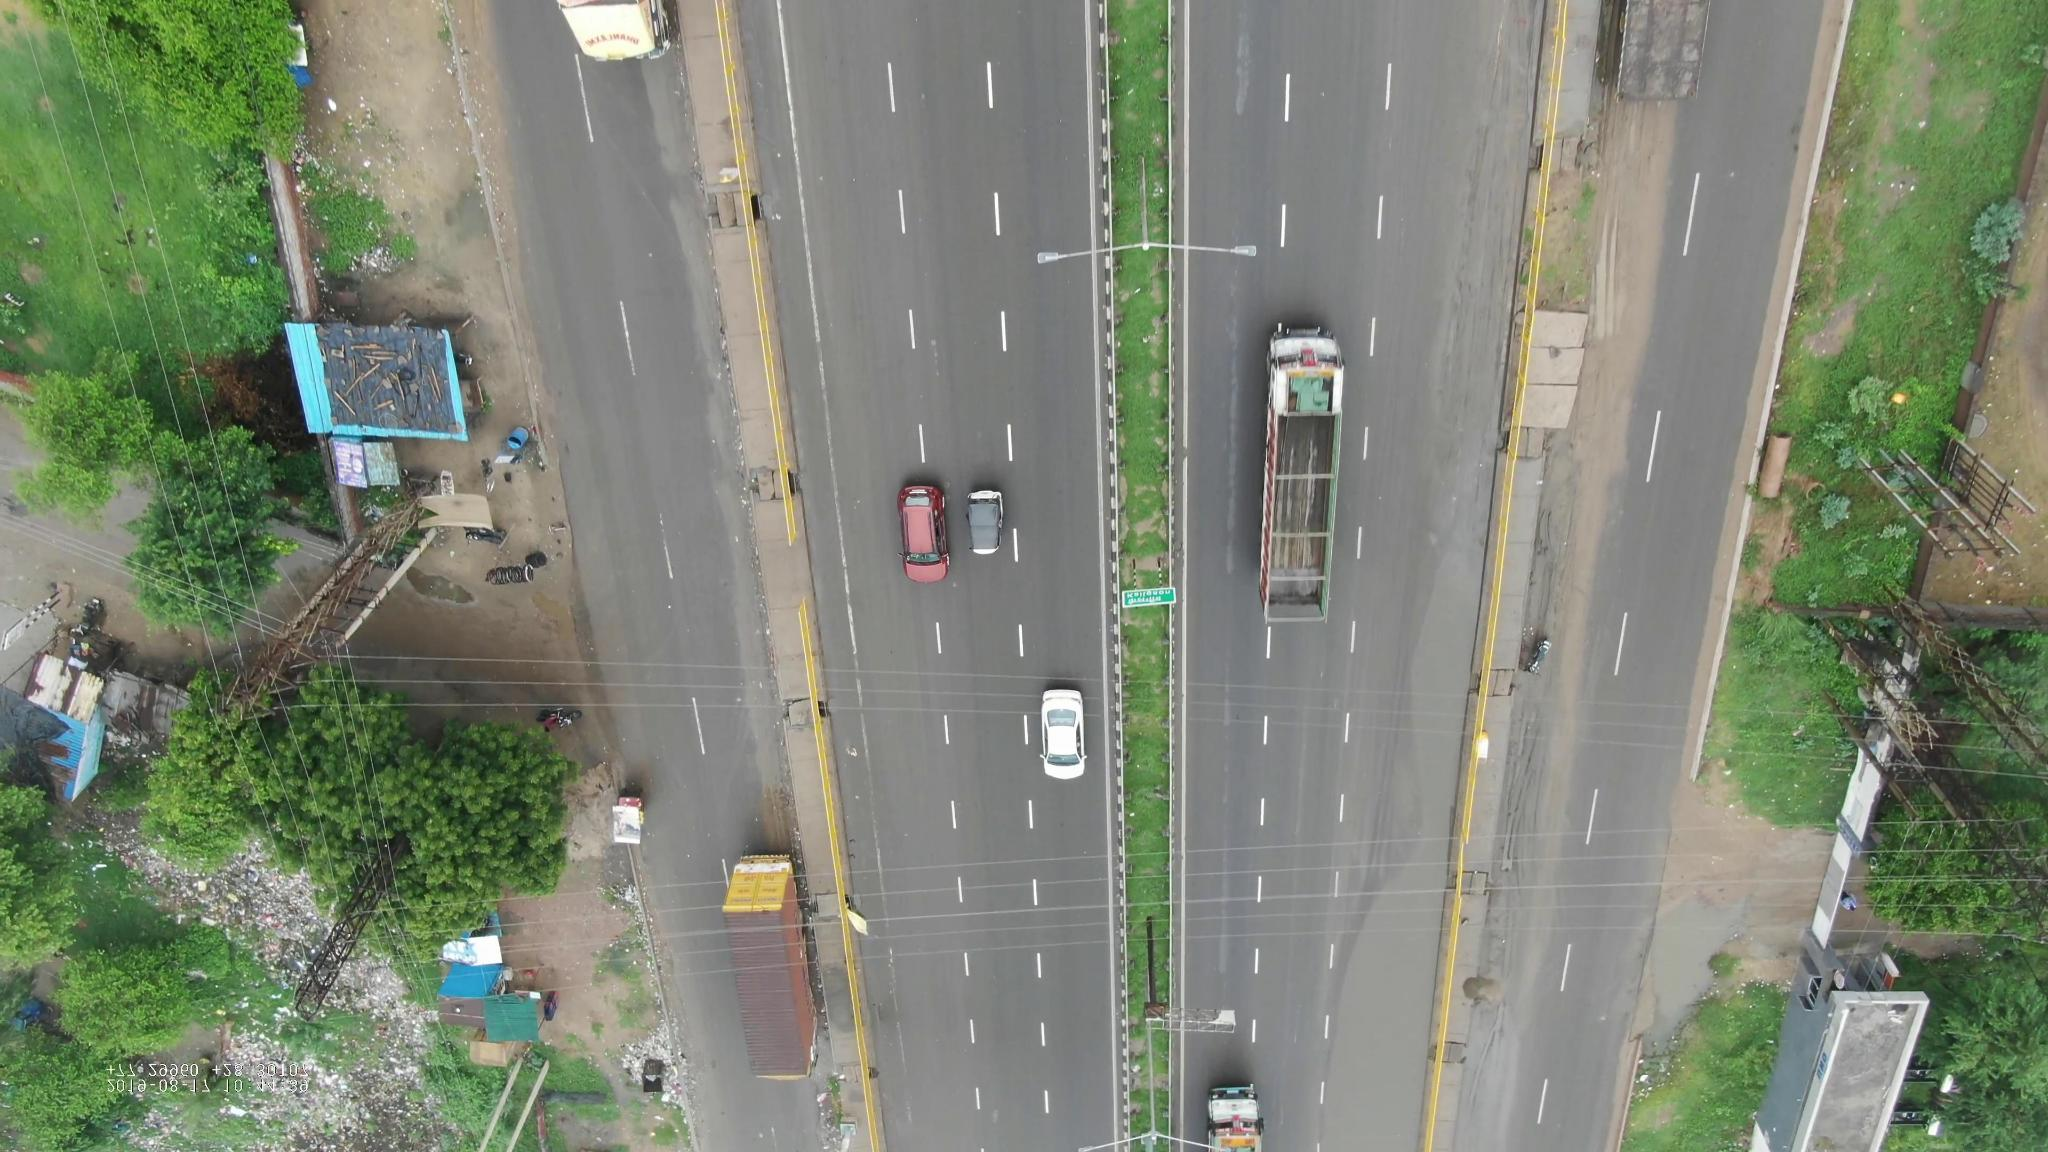Road_side_garbage: (615, 1010, 708, 1120)
Waterlogging: (1566, 122, 1672, 467)
